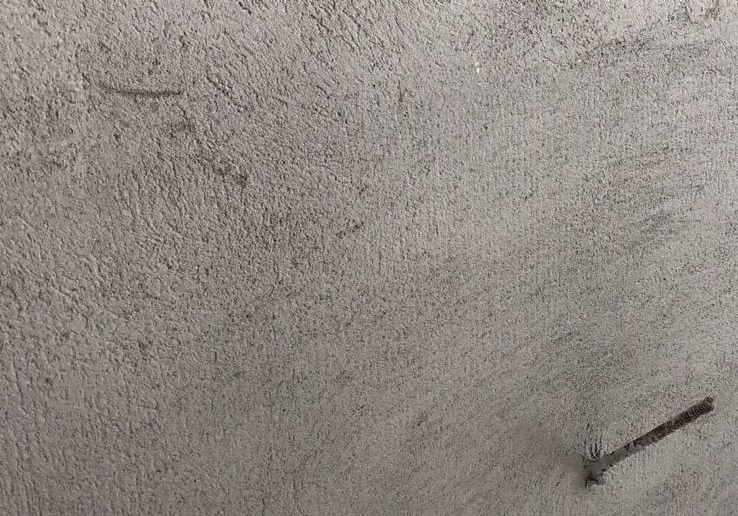Exposed reinforcement: (590, 395, 716, 477)
